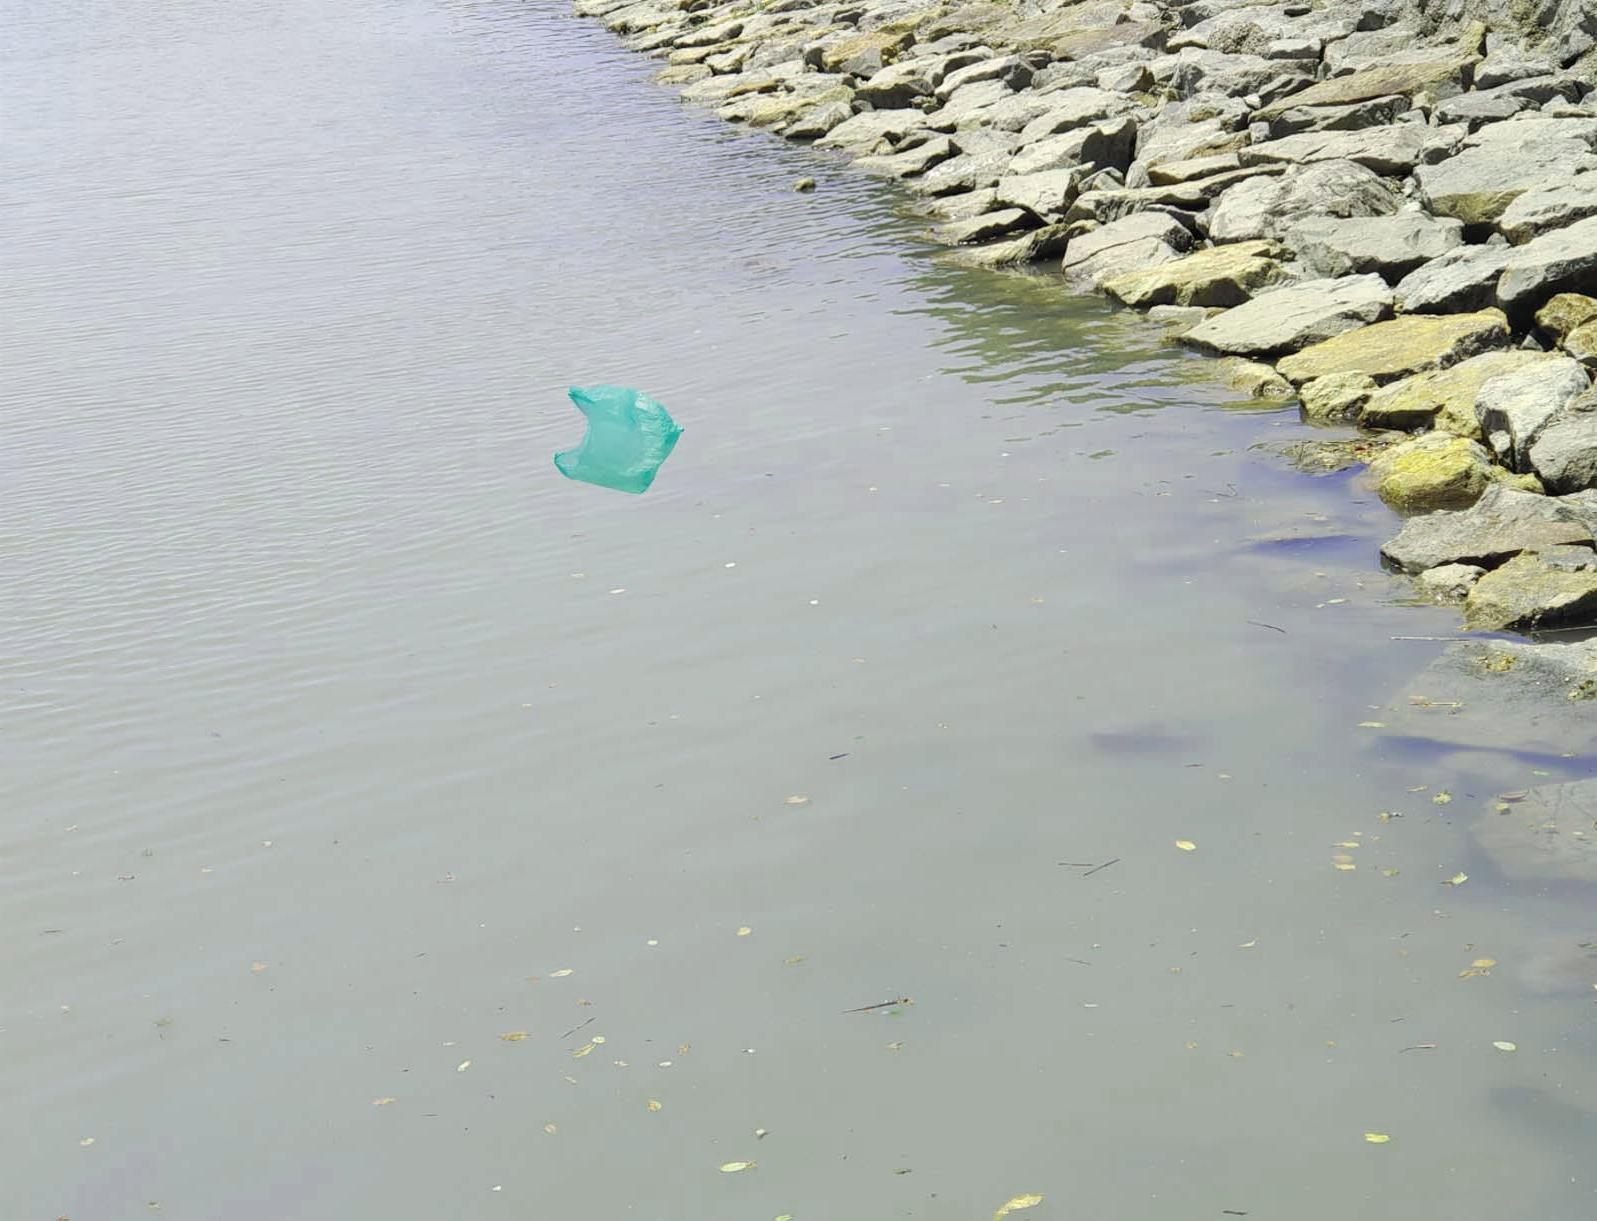Trash: (543, 369, 686, 498)
